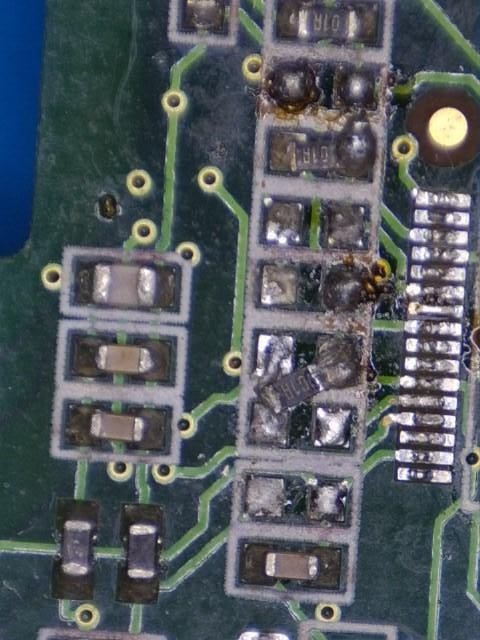pcb_defect: (254, 334, 361, 415), (268, 119, 377, 181), (250, 333, 294, 445)
